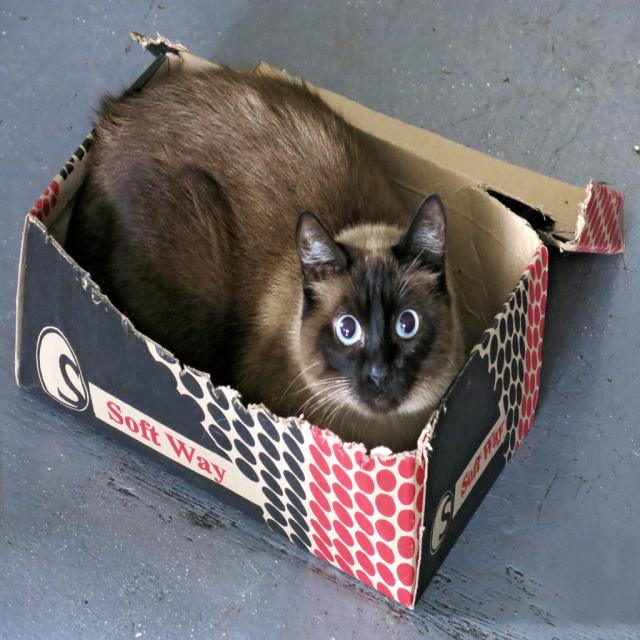Cat: (64, 55, 467, 455)
